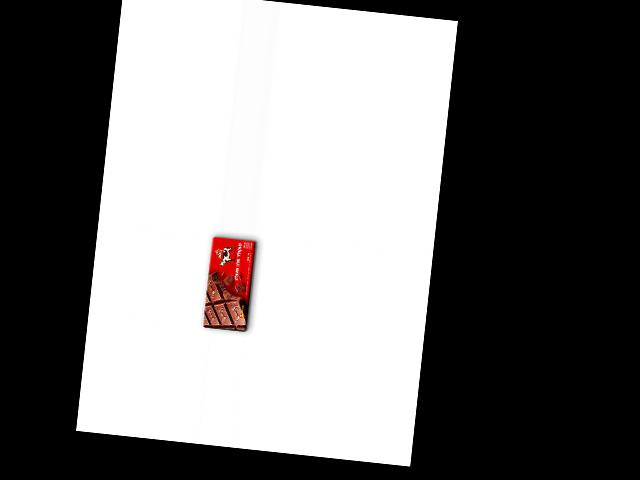chocolate: (200, 233, 259, 334)
